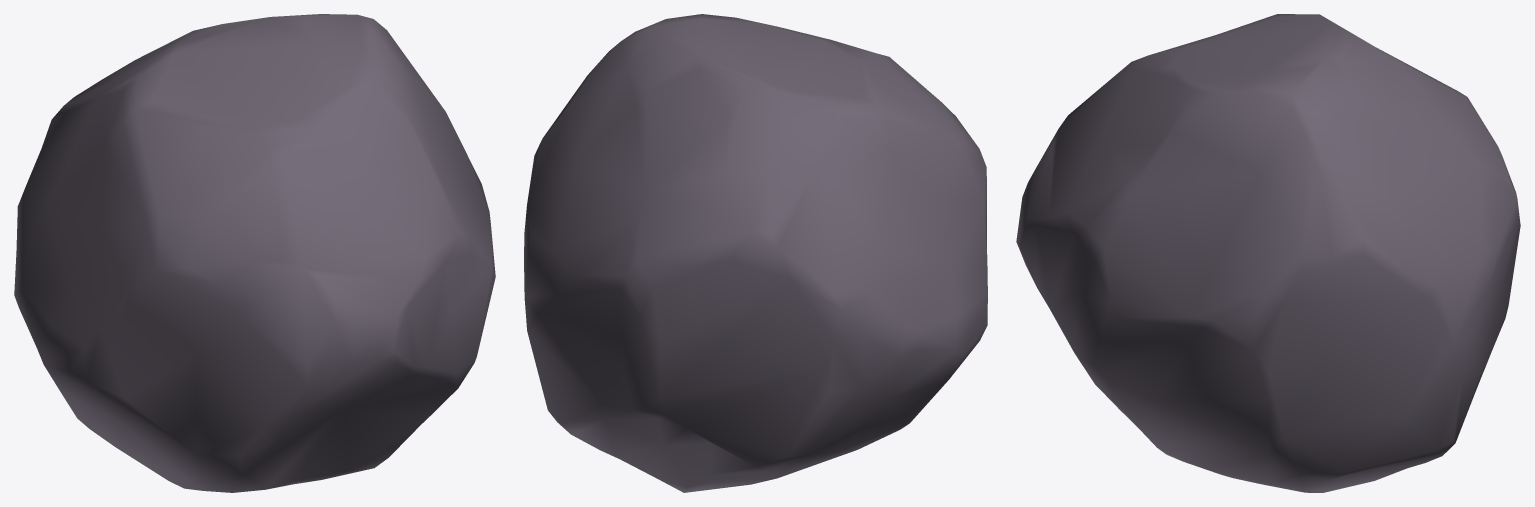
The model's file is Sem4_Environment_Stein04_JT.fbx.
3 views of the same model, side by side, from view 1: azimuth 30°, elevation 25°; view 2: azimuth 150°, elevation 25°; view 3: azimuth 270°, elevation 25° (orthographic). The views are drawn at different scales.
Parts seen in each view (by area): view 1: Stein04_JT; view 2: Stein04_JT; view 3: Stein04_JT.
Part boxes in pixels (x1=…): Stein04_JT: x1=14, y1=14, x2=495, y2=492; Stein04_JT: x1=524, y1=14, x2=987, y2=492; Stein04_JT: x1=1016, y1=14, x2=1520, y2=492.
Bounding box in the file's own units: 36.79 × 36.21 × 38.62.
